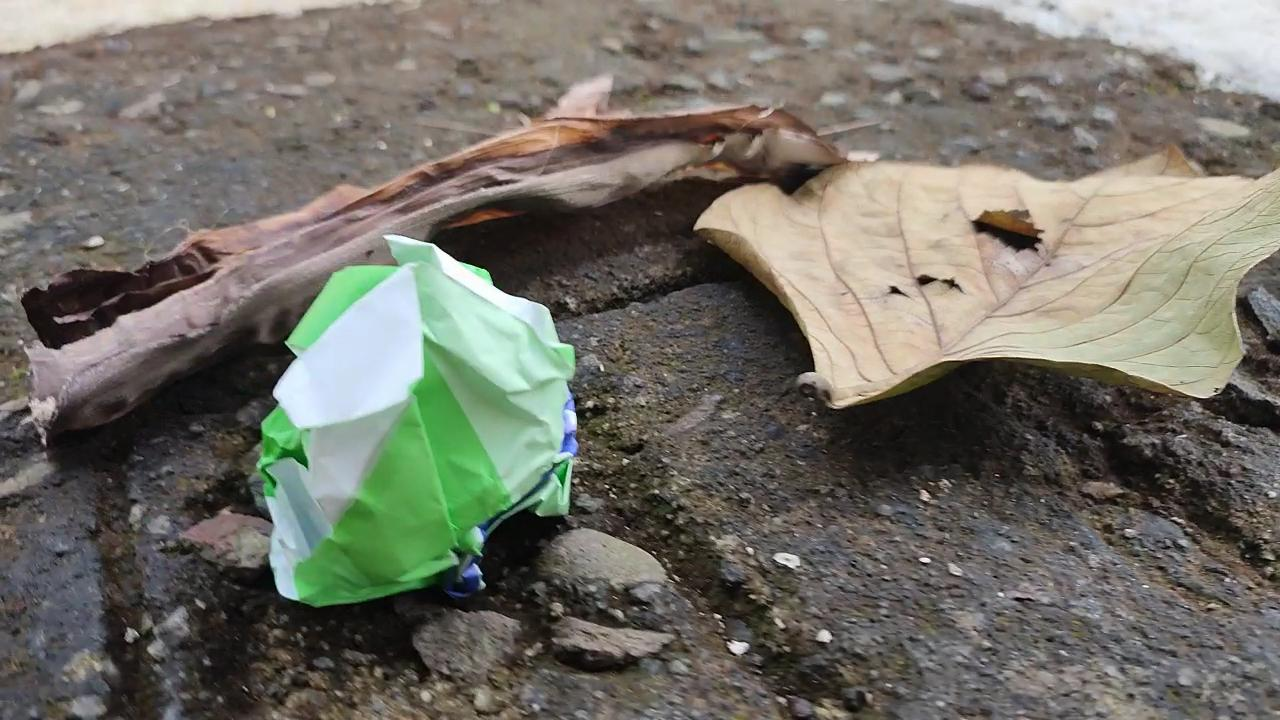Paper: (245, 228, 593, 618)
